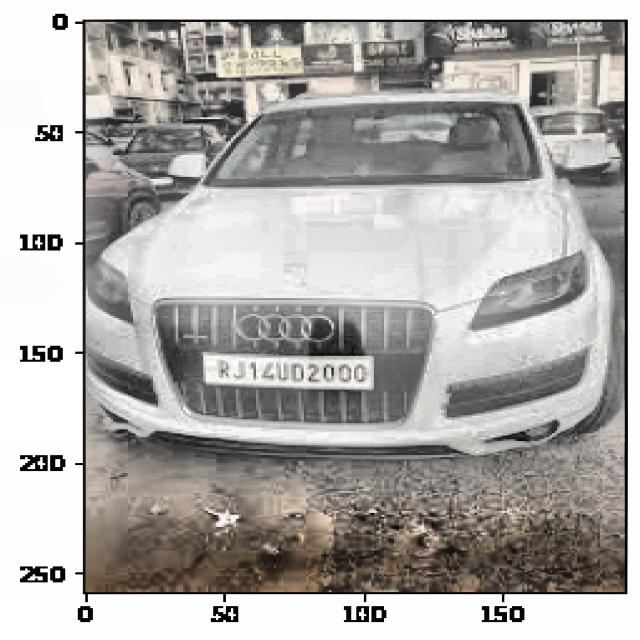license_plate: (204, 356, 374, 392)
